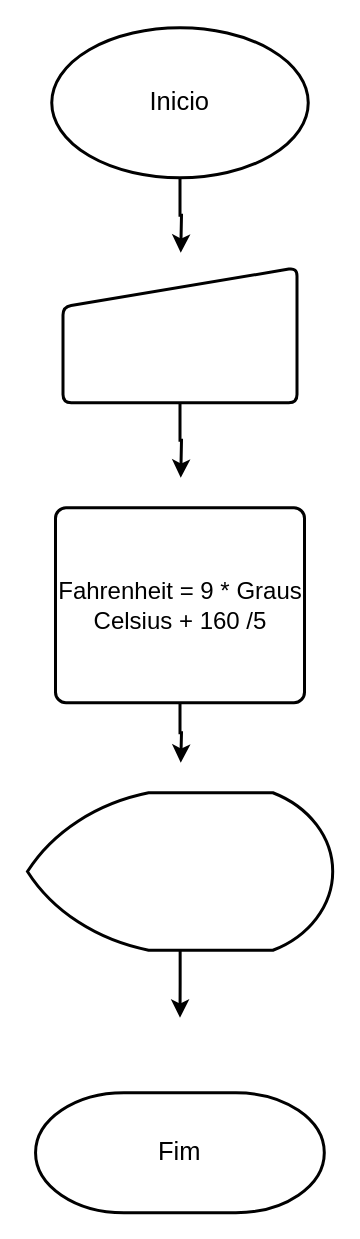
Image size: 360x1239. Some labels were removed from this diagram. The shapes that lost their labels are listed below. From the top down, each one's centre as x and y in pixels, then its label:
At point 179,335: "Graus Celsius".
At point 179,870: "Fahrenheit".
